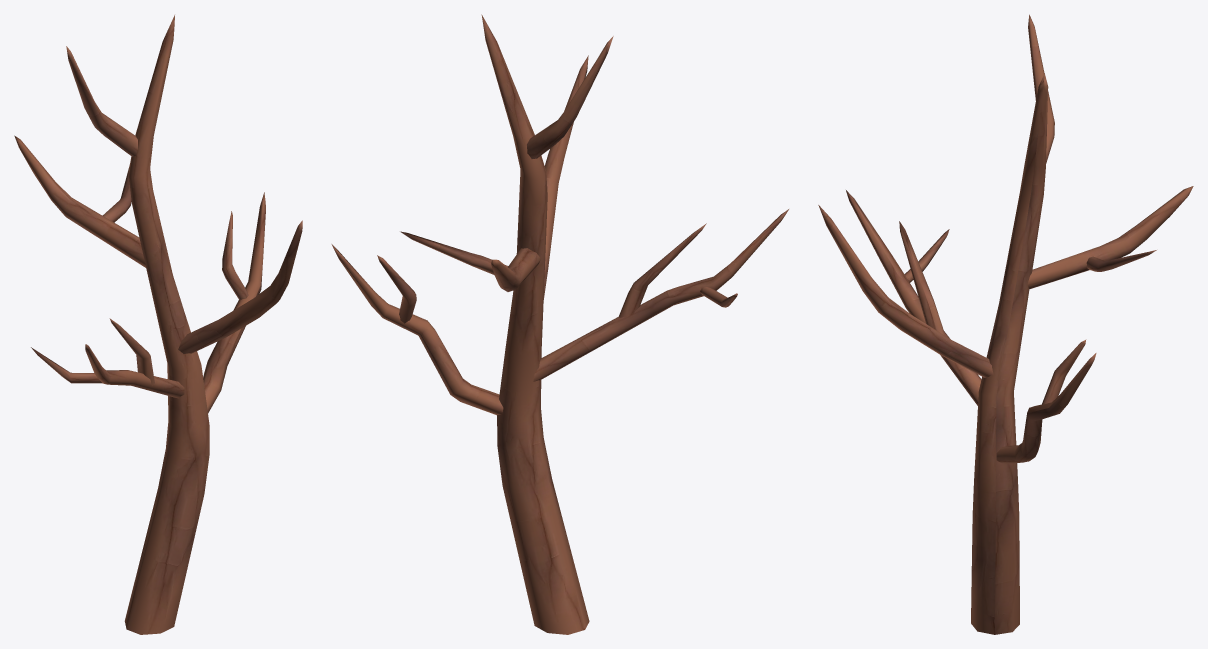
Rendered from dead_4.glb.
3 renders of one model, left to right at view 1: azimuth 30°, elevation 25°; view 2: azimuth 150°, elevation 25°; view 3: azimuth 270°, elevation 25°, orthographic. The views are drawn at different scales.
Visible parts, largest first — view 1: DeadTree_5; view 2: DeadTree_5; view 3: DeadTree_5.
Boxes of the visible parts, x1=… form: DeadTree_5: x1=14, y1=15, x2=302, y2=634; DeadTree_5: x1=331, y1=14, x2=788, y2=634; DeadTree_5: x1=818, y1=14, x2=1193, y2=634.
Bounding box in the file's own units: 1.44 × 2.6 × 1.53.
1 material, 1 textured.
